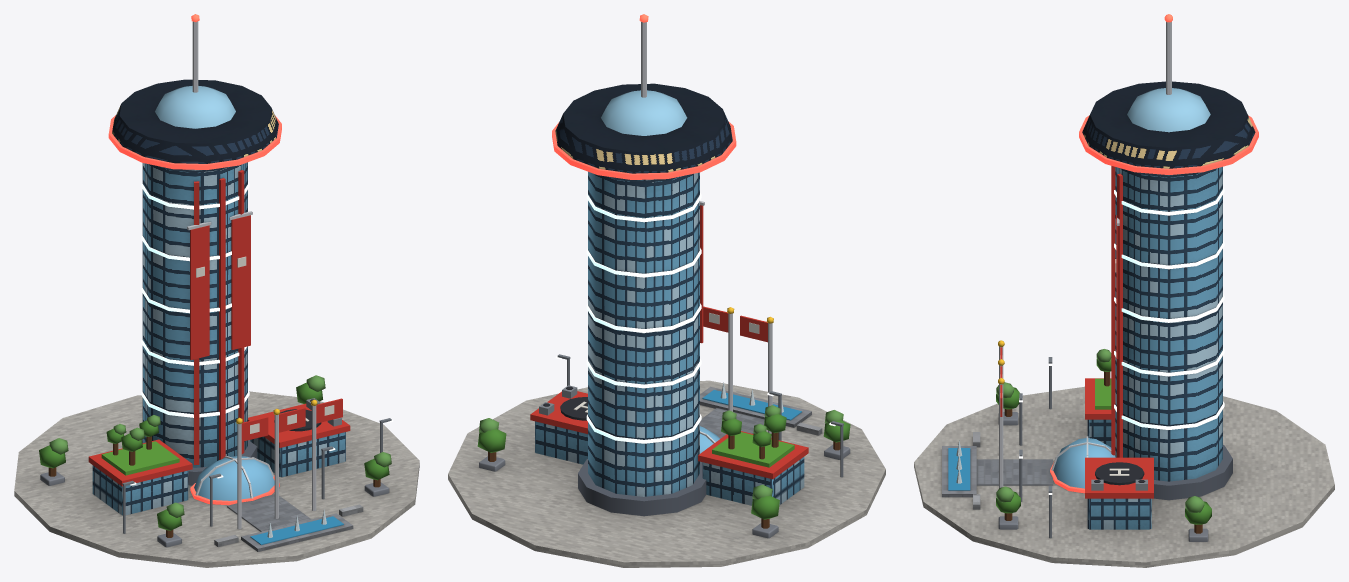
Rendered from residence_dl7_red.glb.
The picture shows the model from 3 angles, left to right: view 1: azimuth 30°, elevation 25°; view 2: azimuth 150°, elevation 25°; view 3: azimuth 270°, elevation 25°; orthographic projection. The views are drawn at different scales.
Parts seen in each view (by area): view 1: residence_dl7_red; view 2: residence_dl7_red; view 3: residence_dl7_red.
Boxes of the visible parts, left/top/right/bottom form: residence_dl7_red: left=14, top=14, right=419, bottom=567; residence_dl7_red: left=448, top=14, right=885, bottom=567; residence_dl7_red: left=914, top=14, right=1334, bottom=567.
Size of the model in its own units: 1.71 by 2.08 by 1.71.
5 materials, 1 textured.
